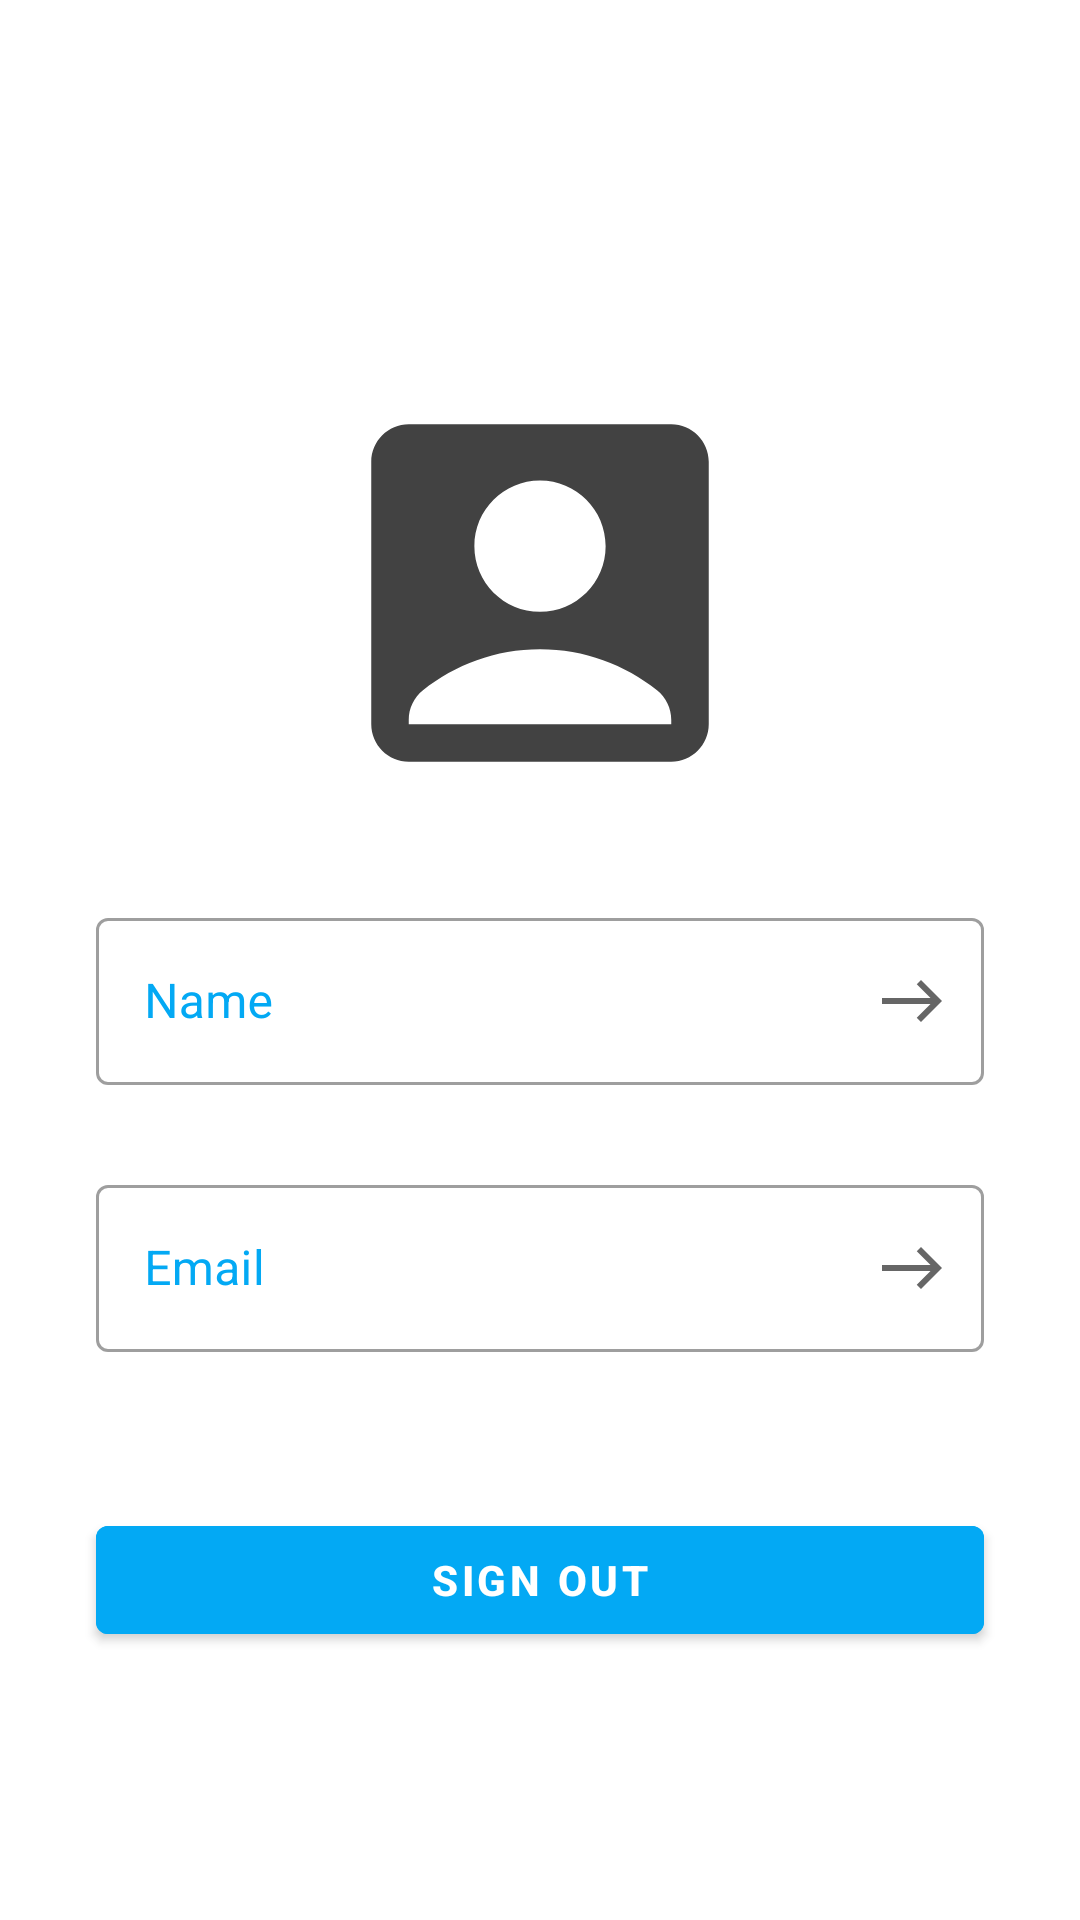

Screen size 1080px x 1920px. Icon name, then its box in pixels as [x1, y1, x2, y2]:
account box: [371, 424, 709, 762]
